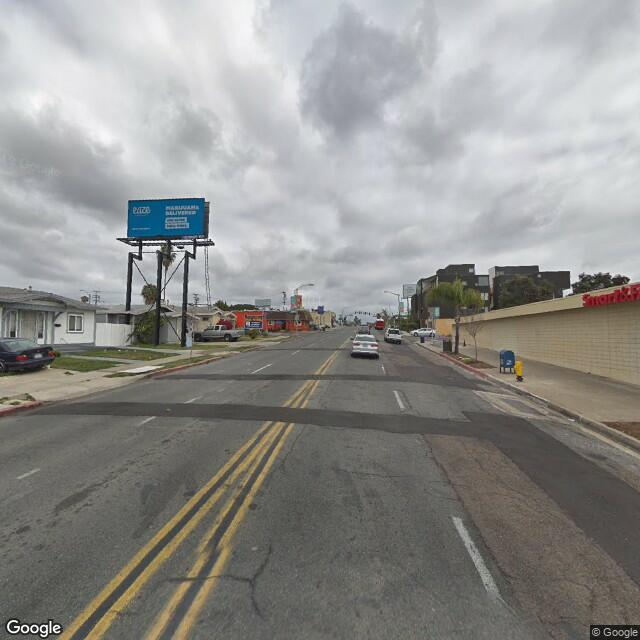road line: (129, 464, 267, 606), (426, 443, 493, 604)
